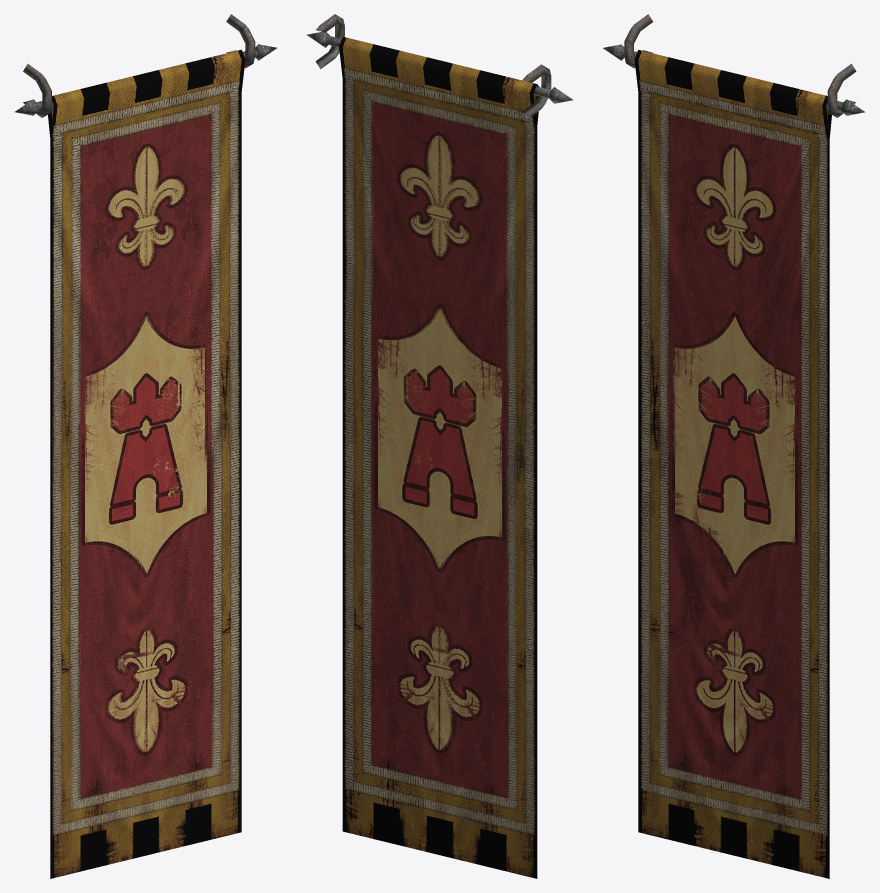
The model's file is Banner1B.fbx.
3 renders of one model, left to right at view 1: azimuth 30°, elevation 25°; view 2: azimuth 150°, elevation 25°; view 3: azimuth 330°, elevation 25°, orthographic.
Visible parts, largest first — view 1: polySurface4; view 2: polySurface4; view 3: polySurface4.
Part boxes in pixels (left/top/right/bottom): polySurface4: left=15, top=14, right=276, bottom=878; polySurface4: left=306, top=14, right=572, bottom=878; polySurface4: left=603, top=14, right=865, bottom=878.
Bounding box in the file's own units: 3.55 × 10.36 × 0.5245.
1 material, 1 textured.
